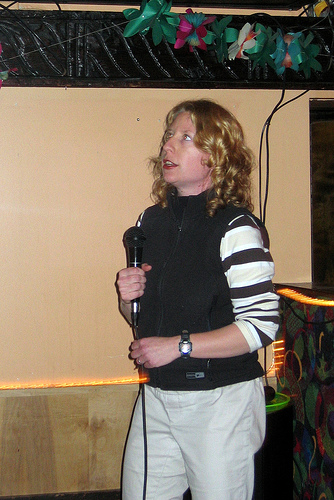without_mask: (162, 111, 214, 193)
